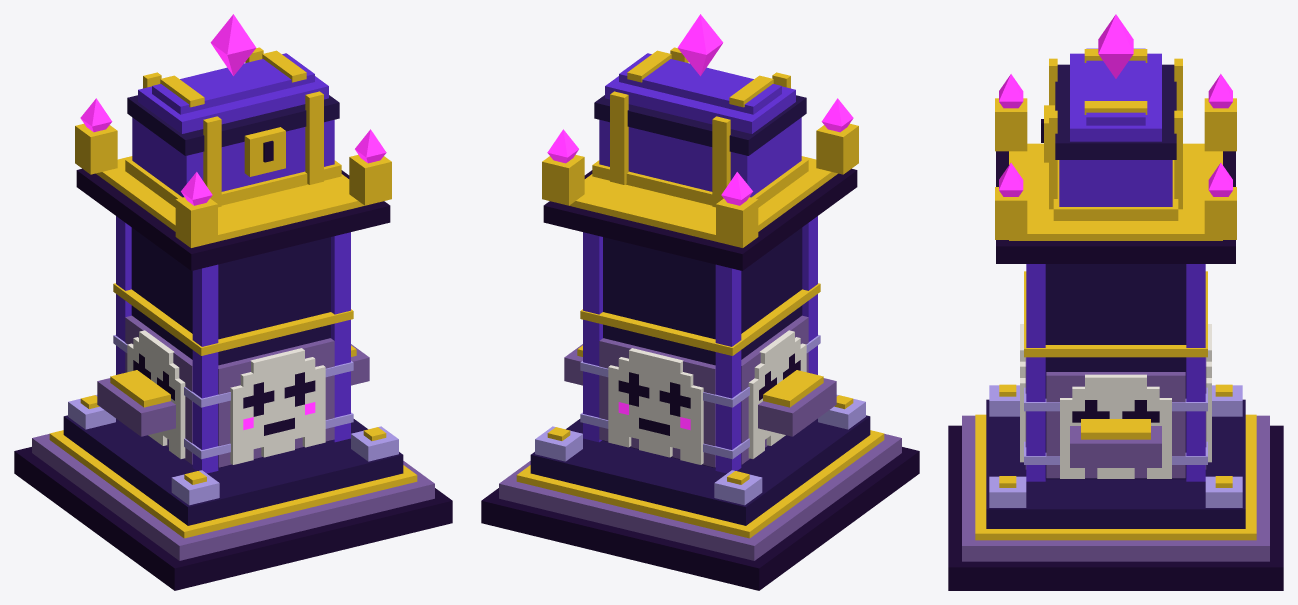
Rendered from chest-tier-3.glb.
The picture shows the model from 3 angles, left to right: view 1: azimuth 30°, elevation 25°; view 2: azimuth 150°, elevation 25°; view 3: azimuth 270°, elevation 25°; orthographic projection. The views are drawn at different scales.
Parts seen in each view (by area): view 1: base-deep, base-ink, base-gold, base-stone, crown-purple, base-cream, base-purple, crown-gold, base-lavender, crown-deep, base-pink, crown-pink; view 2: base-deep, base-ink, base-gold, base-stone, crown-purple, base-cream, base-purple, crown-gold, base-lavender, crown-deep, base-pink, crown-pink; view 3: base-deep, base-gold, base-ink, base-stone, crown-purple, base-purple, base-cream, crown-gold, base-lavender, crown-deep, base-pink, crown-pink.
Boxes of the visible parts, <box> form: base-deep: <box>63,227,403,525</box>; base-ink: <box>14,168,452,590</box>; base-gold: <box>49,123,417,538</box>; base-stone: <box>32,315,434,560</box>; crown-purple: <box>132,53,334,197</box>; base-cream: <box>127,330,325,464</box>; base-purple: <box>116,216,350,473</box>; crown-gold: <box>125,47,341,207</box>; base-lavender: <box>68,335,398,505</box>; crown-deep: <box>127,95,339,155</box>; base-pink: <box>80,98,386,430</box>; crown-pink: <box>210,14,256,76</box>; base-deep: <box>530,227,870,525</box>; base-ink: <box>481,168,919,590</box>; base-gold: <box>516,123,884,538</box>; base-stone: <box>499,315,901,560</box>; crown-purple: <box>599,53,801,197</box>; base-cream: <box>608,330,806,464</box>; base-purple: <box>583,216,817,473</box>; crown-gold: <box>592,47,808,207</box>; base-lavender: <box>535,335,865,505</box>; crown-deep: <box>594,95,806,155</box>; base-pink: <box>547,98,853,430</box>; crown-pink: <box>677,14,723,76</box>; base-deep: <box>986,264,1245,528</box>; base-gold: <box>975,98,1256,540</box>; base-ink: <box>948,151,1283,590</box>; base-stone: <box>962,357,1269,561</box>; crown-purple: <box>1059,48,1172,206</box>; base-purple: <box>1026,264,1205,481</box>; base-cream: <box>1020,324,1211,478</box>; crown-gold: <box>1044,49,1182,220</box>; base-lavender: <box>989,385,1242,507</box>; crown-deep: <box>1055,64,1176,159</box>; base-pink: <box>999,74,1232,196</box>; crown-pink: <box>1098,14,1133,78</box>.
Size of the model in its own units: 3.1 by 5.16 by 3.1.
